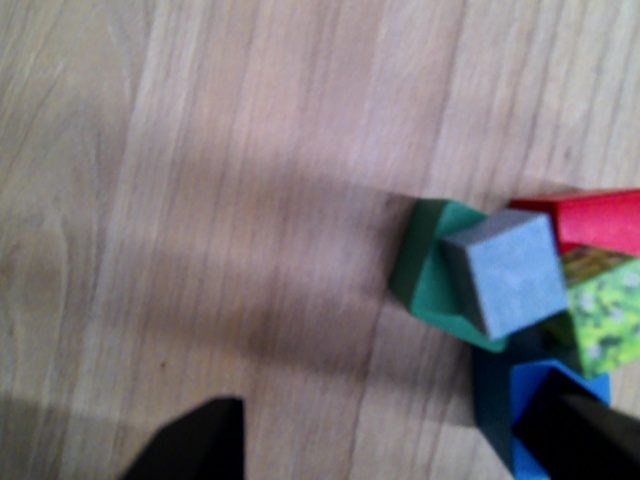grass: (570, 266, 639, 381)
stone: (451, 203, 559, 343)
